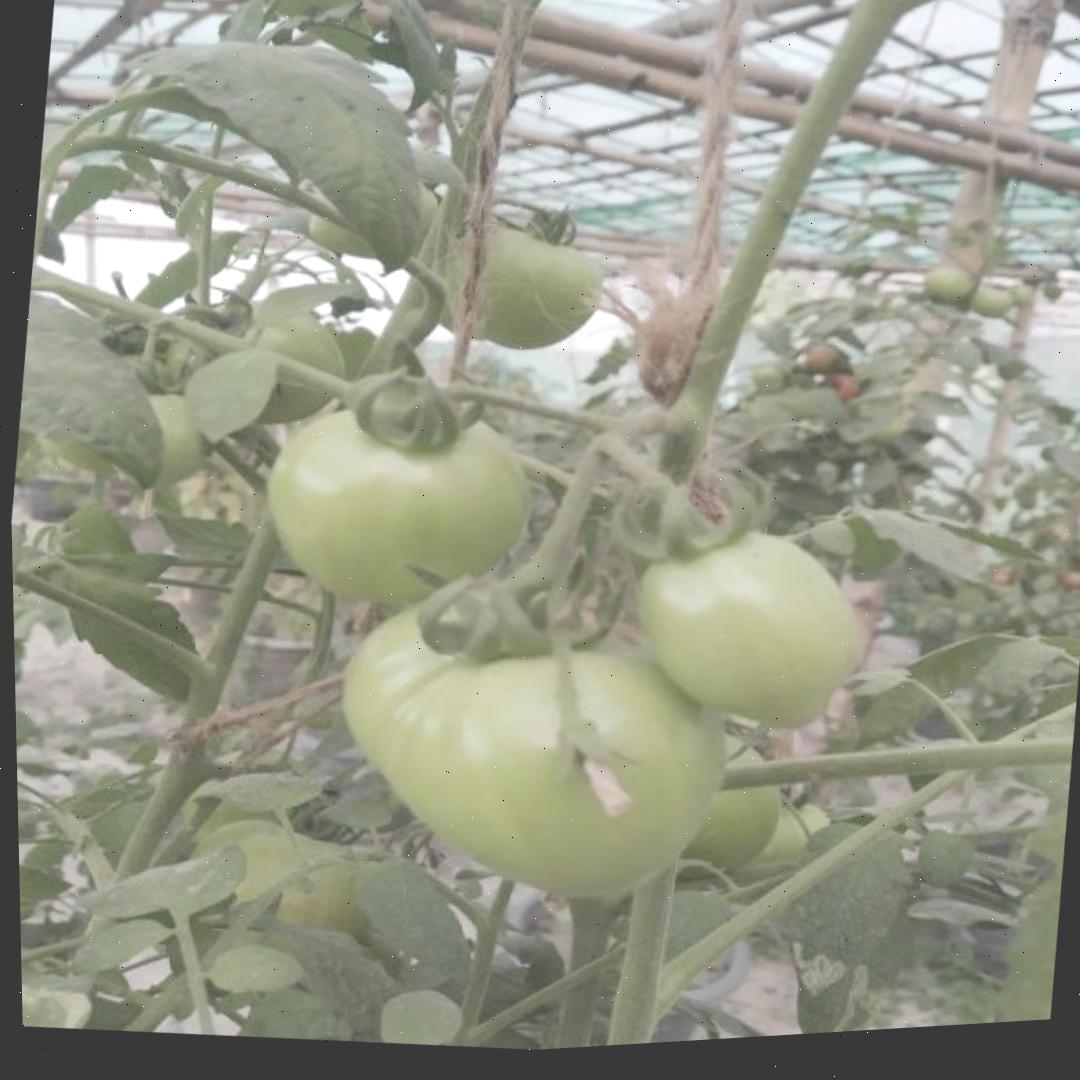mentah: (317, 565, 752, 927), (248, 382, 546, 627), (614, 508, 877, 743), (439, 210, 616, 362)
